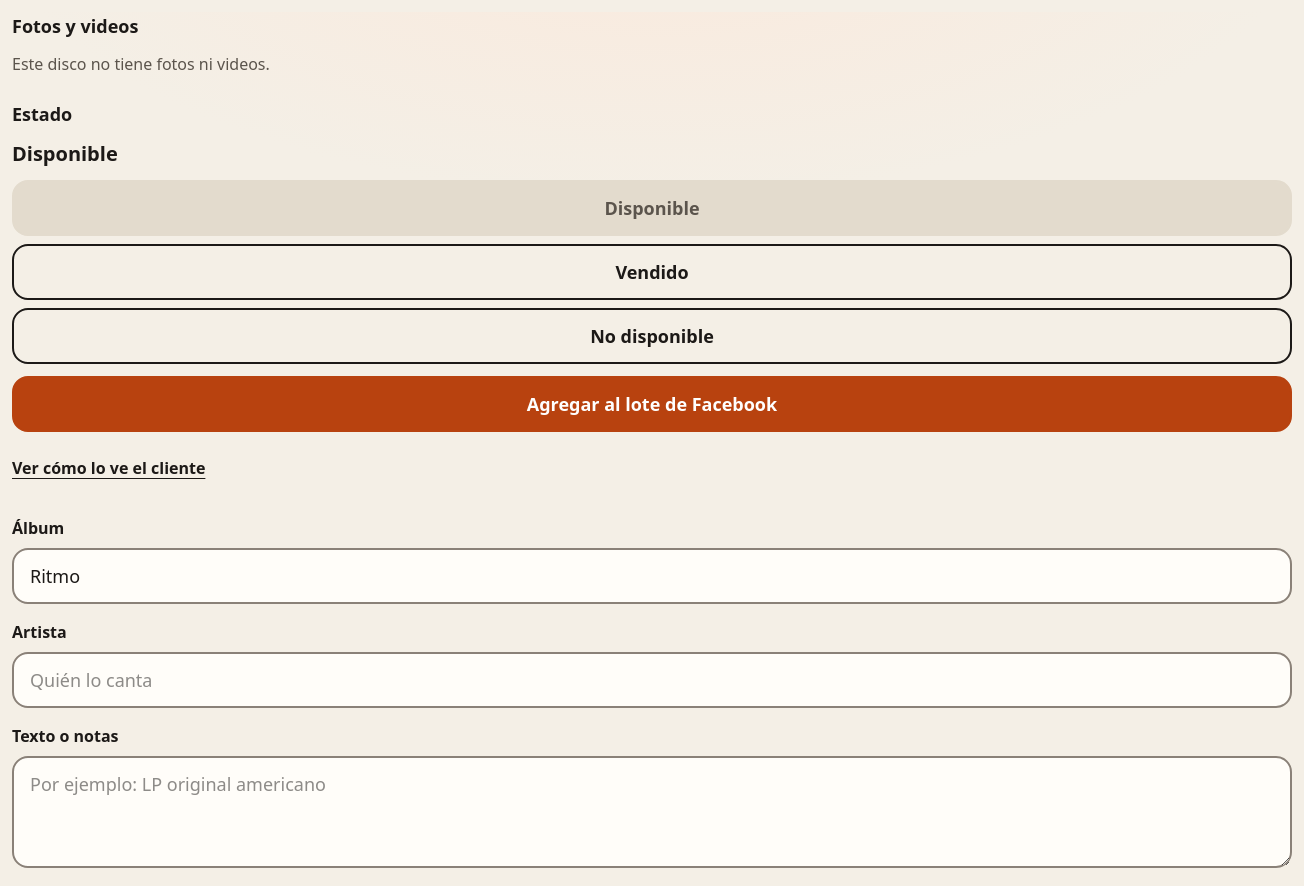
Test case: RecordDetail › changes the status, offers undo, and goes back when asked
The width and height of the screenshot is (1304, 886).
Click the button "Vendido": (652, 272) top-left (12, 244), bottom-right (1292, 300)
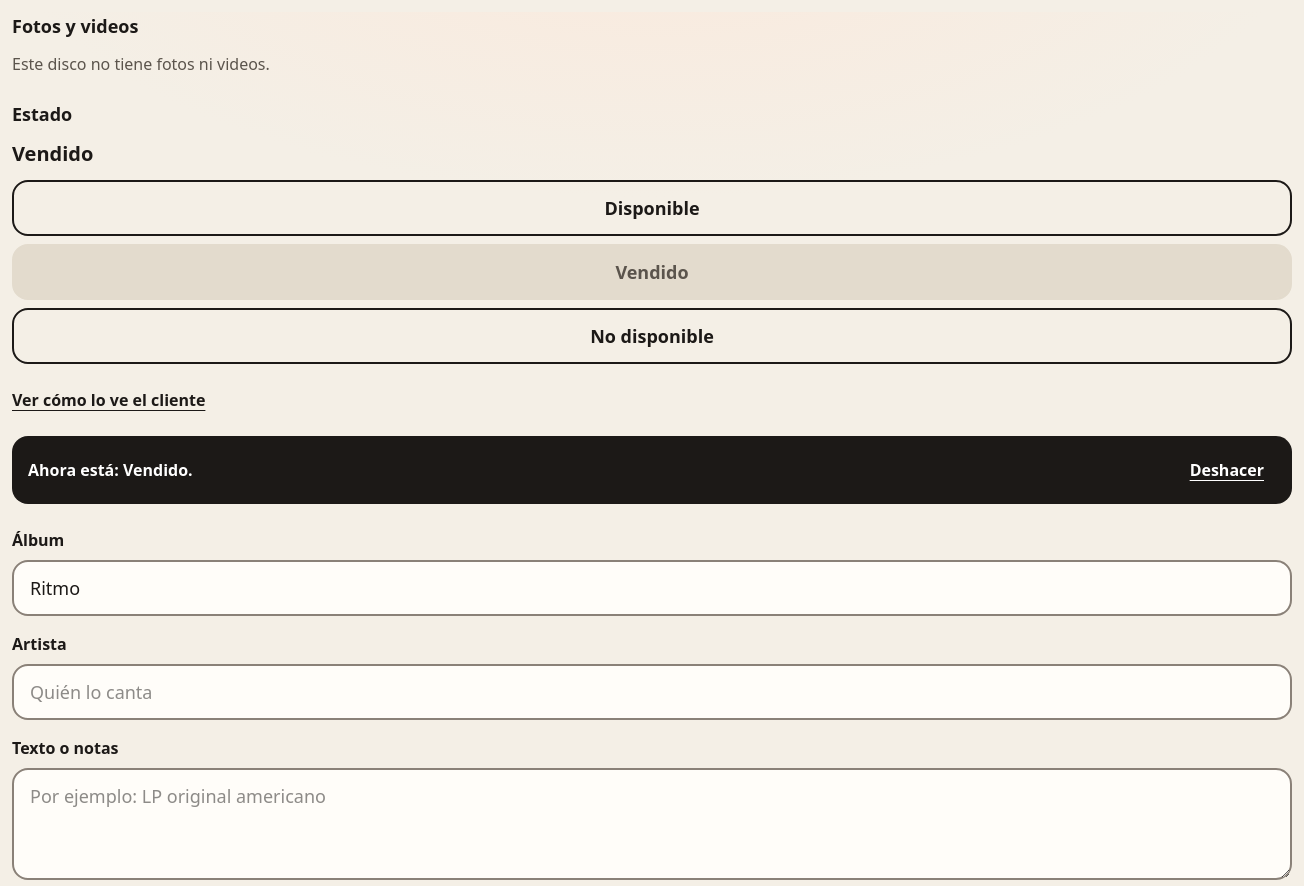
expect the text with test id "current-status" reads "Vendido": met, box top-left (12, 140), bottom-right (93, 167)
Click the button "Deshacer": (1227, 470) top-left (1178, 448), bottom-right (1276, 492)
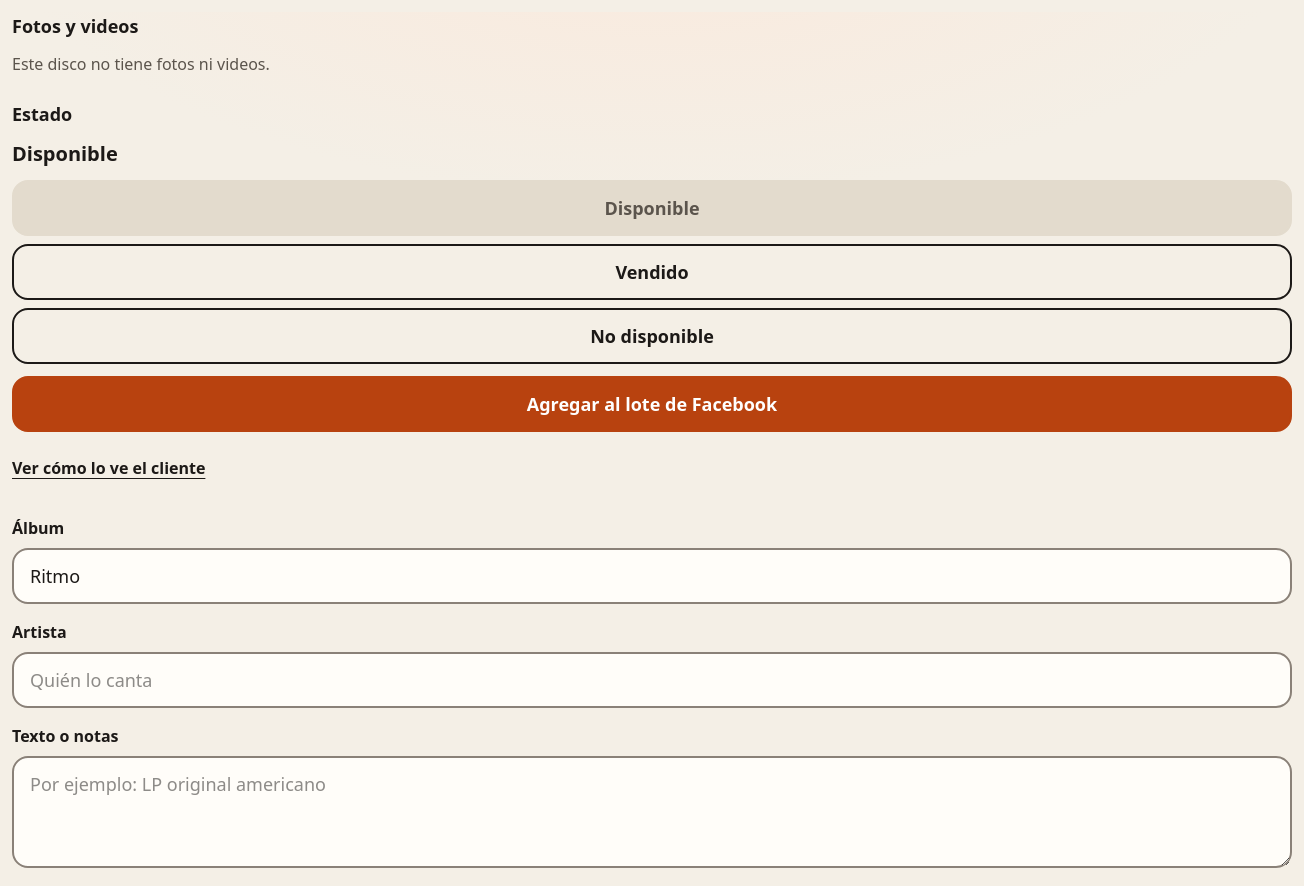
expect the text with test id "current-status" reads "Disponible": met, box top-left (12, 140), bottom-right (118, 167)
